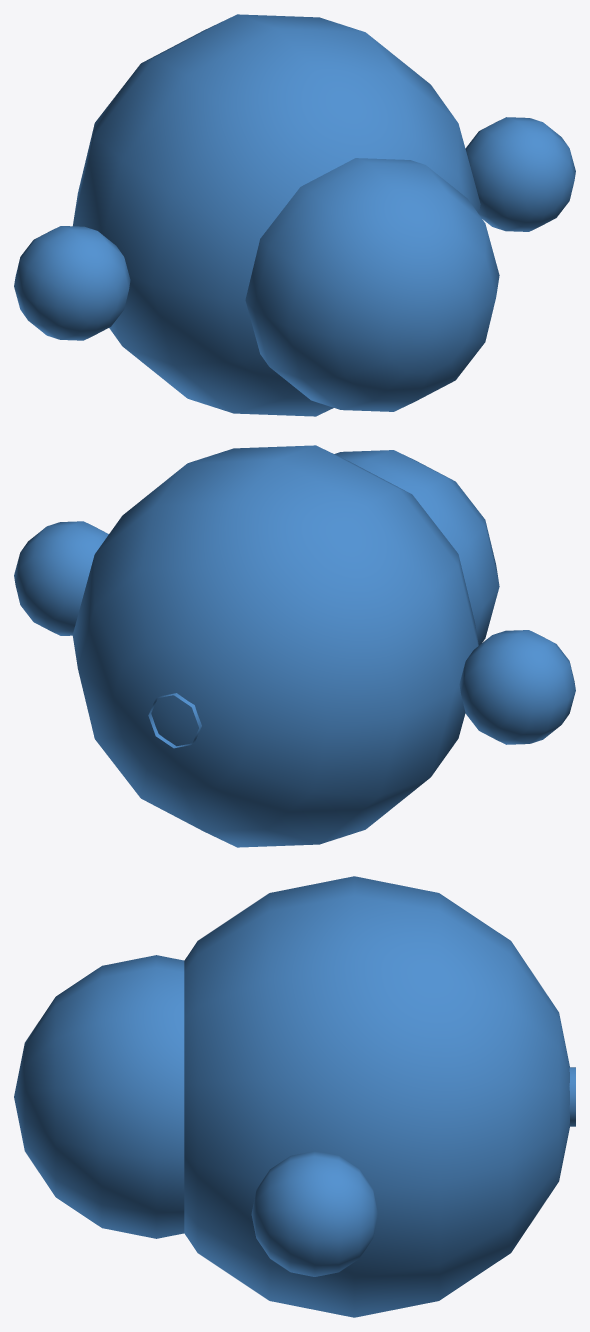
The picture shows the model from 3 angles, top to bottom: view 1: azimuth 30°, elevation 25°; view 2: azimuth 150°, elevation 25°; view 3: azimuth 270°, elevation 25°; orthographic projection. The views are drawn at different scales.
Visible parts, largest first — view 1: Red_Wattlebird; view 2: Red_Wattlebird; view 3: Red_Wattlebird.
Boxes of the visible parts, box(x1,y1,x2,y2) form: Red_Wattlebird: box(14, 14, 575, 416); Red_Wattlebird: box(14, 445, 575, 847); Red_Wattlebird: box(14, 876, 575, 1317).
Size of the model in its own units: 0.86 by 0.56 by 0.71.
